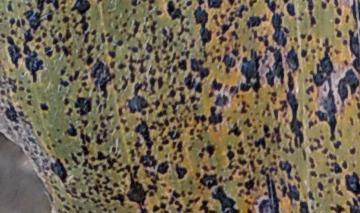tarspot: (309, 36, 338, 143), (283, 70, 303, 147), (133, 115, 158, 170), (21, 29, 45, 84), (263, 1, 291, 48), (192, 1, 213, 60), (88, 57, 116, 101), (239, 48, 262, 94), (261, 46, 284, 87), (126, 172, 149, 213), (256, 174, 280, 213), (337, 68, 360, 104), (211, 186, 240, 213), (126, 81, 149, 114), (23, 1, 44, 33), (345, 170, 360, 213), (347, 27, 360, 75), (5, 35, 23, 69), (49, 158, 69, 184), (190, 57, 211, 81), (4, 99, 21, 125), (73, 96, 93, 117), (285, 45, 300, 73), (48, 24, 61, 55), (245, 13, 270, 29), (126, 19, 141, 44), (208, 106, 225, 127), (170, 93, 187, 114), (278, 158, 294, 180), (305, 1, 318, 28), (199, 172, 218, 190), (70, 1, 92, 16), (160, 26, 175, 48), (72, 15, 89, 34), (165, 1, 181, 21), (272, 100, 288, 120), (128, 53, 138, 84), (177, 15, 191, 37), (222, 54, 236, 75), (221, 15, 235, 36), (234, 2, 250, 20), (283, 131, 295, 155), (287, 181, 299, 205), (350, 1, 360, 29), (307, 136, 323, 153), (245, 173, 256, 196), (137, 54, 149, 75), (174, 163, 188, 180), (272, 122, 283, 143), (80, 127, 92, 145), (184, 72, 196, 90), (156, 160, 170, 175), (227, 122, 241, 137), (7, 77, 18, 96), (110, 193, 126, 206), (257, 33, 271, 47), (215, 93, 229, 107), (210, 78, 224, 92), (65, 122, 78, 137), (199, 199, 212, 213), (148, 77, 157, 96), (226, 143, 235, 162), (335, 178, 344, 197), (20, 117, 33, 130), (253, 136, 267, 148), (96, 150, 110, 162), (205, 143, 216, 158), (70, 151, 81, 166), (329, 203, 345, 213), (61, 45, 73, 58), (77, 82, 90, 94), (177, 58, 189, 71), (186, 196, 200, 207), (77, 47, 86, 64), (120, 75, 130, 90), (134, 136, 143, 152), (106, 158, 117, 171), (298, 200, 309, 213), (286, 3, 296, 17), (167, 130, 181, 140), (262, 103, 272, 117), (333, 161, 343, 175), (207, 1, 224, 9), (212, 11, 220, 28), (268, 91, 278, 104), (146, 183, 159, 193), (306, 189, 316, 202), (240, 100, 248, 116), (44, 45, 53, 59), (262, 124, 271, 138), (308, 156, 317, 170), (39, 101, 50, 112), (237, 156, 248, 167), (58, 77, 70, 87), (132, 164, 140, 179), (80, 145, 90, 157), (217, 35, 227, 47), (158, 123, 166, 138), (150, 174, 160, 186), (171, 188, 181, 200), (175, 140, 184, 153), (98, 100, 107, 113), (149, 20, 157, 34), (65, 27, 73, 41), (188, 95, 202, 103), (243, 118, 254, 128), (268, 166, 278, 177), (305, 85, 315, 96), (6, 1, 15, 13), (230, 30, 239, 42), (354, 100, 360, 118), (300, 147, 307, 162), (82, 32, 90, 45), (192, 112, 200, 125), (249, 160, 257, 173), (229, 86, 239, 96), (167, 90, 177, 100), (259, 165, 269, 175), (144, 42, 153, 53), (234, 147, 245, 156), (147, 64, 156, 75), (151, 99, 160, 110), (157, 76, 164, 90), (281, 185, 288, 199), (195, 82, 203, 94), (175, 199, 183, 211), (8, 16, 15, 29), (154, 50, 161, 63), (200, 113, 207, 126), (335, 25, 342, 38), (230, 48, 240, 57), (45, 12, 54, 22), (56, 193, 66, 202), (127, 45, 138, 53), (95, 134, 103, 145), (59, 66, 67, 77), (103, 184, 114, 192), (347, 116, 355, 127), (86, 54, 93, 66), (250, 27, 257, 39), (142, 23, 149, 35), (93, 184, 100, 196), (327, 153, 339, 160), (337, 127, 344, 139), (9, 28, 18, 37), (101, 175, 110, 184), (237, 169, 246, 178), (333, 17, 342, 26), (109, 60, 117, 70), (115, 166, 125, 174), (81, 167, 89, 177), (157, 110, 167, 118), (70, 193, 80, 201), (318, 171, 328, 179), (335, 7, 343, 17), (129, 149, 135, 162), (170, 50, 176, 63), (130, 1, 141, 8), (73, 70, 80, 81), (81, 157, 88, 168), (248, 1, 259, 8), (86, 44, 93, 55), (189, 38, 196, 49), (281, 145, 288, 156), (90, 197, 101, 204), (182, 206, 193, 213), (316, 181, 323, 192), (293, 163, 300, 174), (65, 107, 73, 116), (80, 119, 89, 127), (107, 50, 116, 58), (119, 117, 128, 125), (12, 124, 21, 132), (61, 15, 70, 23), (100, 32, 106, 44), (191, 102, 199, 111), (184, 105, 192, 114), (159, 201, 167, 210), (244, 197, 252, 206), (334, 140, 342, 149), (333, 47, 342, 55), (251, 127, 259, 136), (117, 63, 127, 70), (264, 148, 271, 158), (301, 48, 308, 58), (102, 129, 109, 139), (148, 124, 158, 131), (195, 134, 205, 141), (61, 204, 71, 211), (87, 185, 94, 195), (27, 136, 37, 143), (94, 94, 100, 105), (164, 117, 170, 128), (183, 118, 189, 129), (342, 160, 348, 171), (157, 63, 163, 74), (345, 13, 350, 26), (155, 9, 163, 17), (130, 7, 138, 15), (99, 121, 107, 129), (121, 20, 129, 28), (41, 31, 49, 39), (25, 87, 33, 95), (196, 127, 204, 135), (349, 147, 357, 155), (309, 170, 317, 178), (327, 177, 335, 185), (350, 161, 358, 169), (62, 97, 69, 106), (14, 19, 21, 28), (202, 164, 209, 173), (124, 164, 131, 173), (224, 115, 233, 122), (34, 36, 43, 43), (35, 43, 42, 52), (210, 56, 217, 65), (161, 101, 168, 110), (152, 204, 159, 213), (159, 194, 168, 201), (168, 197, 175, 206), (245, 141, 254, 148), (307, 120, 314, 129), (320, 1, 327, 10), (117, 106, 123, 116), (137, 38, 143, 48), (57, 31, 63, 41), (180, 188, 186, 198), (35, 129, 42, 137), (157, 144, 164, 152), (255, 158, 263, 165), (236, 140, 243, 148), (106, 114, 114, 121), (99, 114, 106, 122), (93, 164, 100, 172), (106, 36, 114, 43), (177, 85, 185, 92), (219, 13, 227, 20), (119, 28, 127, 35), (294, 174, 301, 182), (30, 155, 37, 163), (279, 177, 286, 185), (310, 46, 317, 54), (269, 135, 275, 144), (101, 163, 107, 172), (161, 139, 170, 145), (61, 5, 67, 14), (54, 1, 60, 10), (189, 127, 195, 136), (171, 75, 177, 84), (228, 161, 234, 170), (23, 144, 29, 153), (271, 153, 277, 162), (322, 146, 328, 155), (95, 43, 100, 53), (166, 69, 171, 79), (209, 165, 216, 172), (306, 34, 313, 41), (63, 157, 70, 164), (18, 110, 25, 117), (95, 172, 102, 179), (90, 28, 97, 35), (163, 54, 170, 61), (227, 175, 234, 182), (80, 191, 87, 198), (104, 197, 111, 204), (317, 191, 324, 198), (341, 39, 348, 46), (315, 44, 322, 51), (116, 40, 124, 46), (185, 1, 193, 7), (296, 14, 302, 22), (299, 32, 305, 40), (195, 171, 201, 179), (151, 35, 157, 43), (81, 75, 89, 81), (88, 162, 94, 170), (135, 150, 141, 158), (233, 21, 239, 29), (126, 139, 132, 147), (71, 186, 77, 194), (245, 207, 253, 213), (171, 141, 177, 149), (16, 1, 22, 9), (21, 18, 26, 27), (226, 1, 235, 6), (172, 65, 177, 74), (198, 152, 204, 159), (123, 126, 130, 132), (147, 4, 153, 11), (123, 7, 129, 14), (90, 156, 97, 162), (122, 172, 128, 179), (179, 154, 185, 161), (172, 155, 178, 162), (208, 92, 214, 99), (18, 85, 25, 91), (225, 7, 231, 14), (224, 45, 230, 52), (215, 30, 221, 37), (203, 126, 209, 133), (159, 93, 165, 100), (167, 84, 174, 90), (179, 50, 186, 56), (179, 37, 185, 44), (168, 45, 174, 52), (65, 57, 71, 64), (55, 127, 61, 134), (112, 181, 119, 187), (101, 191, 108, 197), (127, 204, 134, 210), (261, 182, 267, 189), (343, 59, 349, 66), (307, 96, 314, 102), (333, 1, 340, 7), (303, 103, 309, 110), (68, 74, 73, 82), (124, 53, 129, 61), (109, 105, 114, 113), (72, 177, 80, 182), (185, 50, 190, 58), (209, 208, 217, 213), (46, 143, 51, 151), (269, 161, 277, 166), (187, 145, 192, 153), (242, 45, 247, 53), (26, 100, 32, 106), (148, 108, 154, 114), (141, 110, 147, 116), (147, 1, 156, 5), (76, 151, 82, 157), (143, 168, 149, 174), (253, 99, 259, 105), (185, 20, 191, 26), (161, 48, 167, 54), (120, 179, 126, 185), (148, 191, 154, 197), (160, 182, 166, 188), (42, 158, 48, 164), (237, 181, 243, 187), (1, 33, 7, 39), (93, 124, 98, 131), (111, 146, 116, 153), (114, 24, 119, 31), (114, 15, 119, 22), (216, 55, 221, 62), (170, 116, 175, 123), (69, 60, 74, 67), (218, 175, 223, 182), (43, 171, 48, 178), (39, 151, 44, 158), (316, 37, 321, 44), (196, 162, 201, 169), (309, 203, 314, 210), (325, 160, 330, 167), (95, 1, 103, 5), (60, 1, 68, 5), (163, 66, 167, 74), (233, 41, 237, 49), (51, 143, 56, 149), (200, 147, 205, 153), (304, 56, 309, 62), (115, 126, 121, 131), (95, 179, 101, 184), (248, 35, 253, 41), (105, 32, 111, 37), (61, 38, 67, 43), (214, 48, 220, 53), (172, 125, 177, 131), (98, 183, 103, 189), (65, 188, 71, 193), (71, 204, 77, 209), (186, 191, 192, 196), (188, 179, 193, 185), (239, 188, 244, 194), (256, 177, 259, 187), (166, 60, 171, 66), (189, 136, 195, 141), (315, 202, 320, 208), (245, 135, 250, 141), (282, 1, 289, 5), (293, 36, 297, 43), (254, 94, 261, 98), (250, 135, 254, 142), (2, 16, 9, 20), (44, 1, 53, 4), (145, 15, 148, 24), (57, 138, 62, 143), (27, 94, 32, 99), (299, 11, 304, 16), (67, 166, 72, 171), (78, 206, 83, 211), (33, 145, 38, 150), (237, 43, 242, 48), (113, 206, 117, 212), (168, 187, 172, 193), (45, 165, 49, 171), (164, 153, 168, 159), (87, 16, 91, 21), (304, 42, 308, 47), (114, 152, 118, 157), (117, 154, 121, 159), (237, 1, 242, 5), (102, 207, 107, 211), (87, 209, 92, 213), (63, 184, 68, 188), (30, 152, 34, 157), (33, 150, 38, 154), (166, 66, 171, 70), (1, 11, 5, 16), (118, 162, 122, 166), (71, 181, 75, 185), (89, 171, 92, 176), (1, 17, 3, 24), (325, 1, 332, 3), (141, 1, 147, 3), (175, 1, 181, 3)
